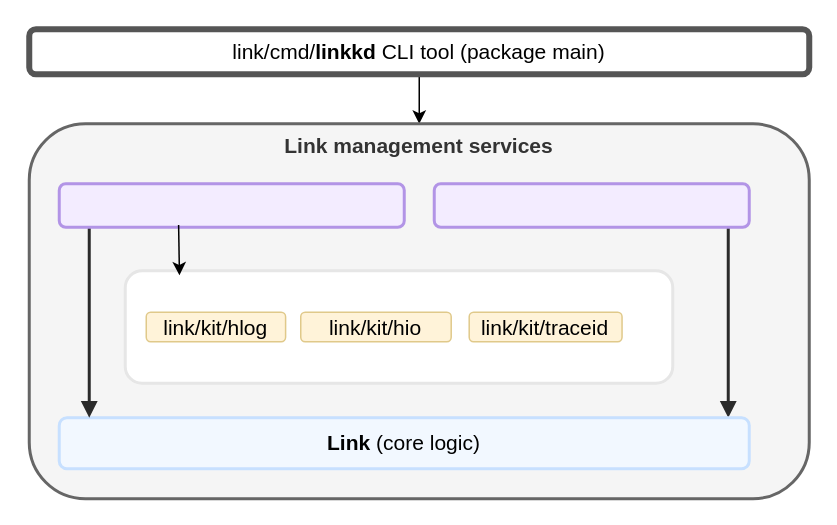
Image size: 837x525. Some labels were removed from this diagram. Each missing label, with the box of its shape:
Infrastructural services: (123, 268, 674, 384)
link/rest: (57, 182, 405, 228)
link/sqlite: (432, 182, 750, 228)
